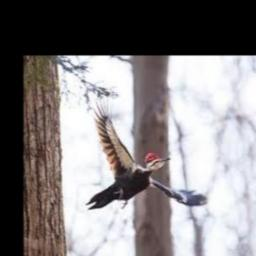Woodpecker: (86, 97, 208, 209)
